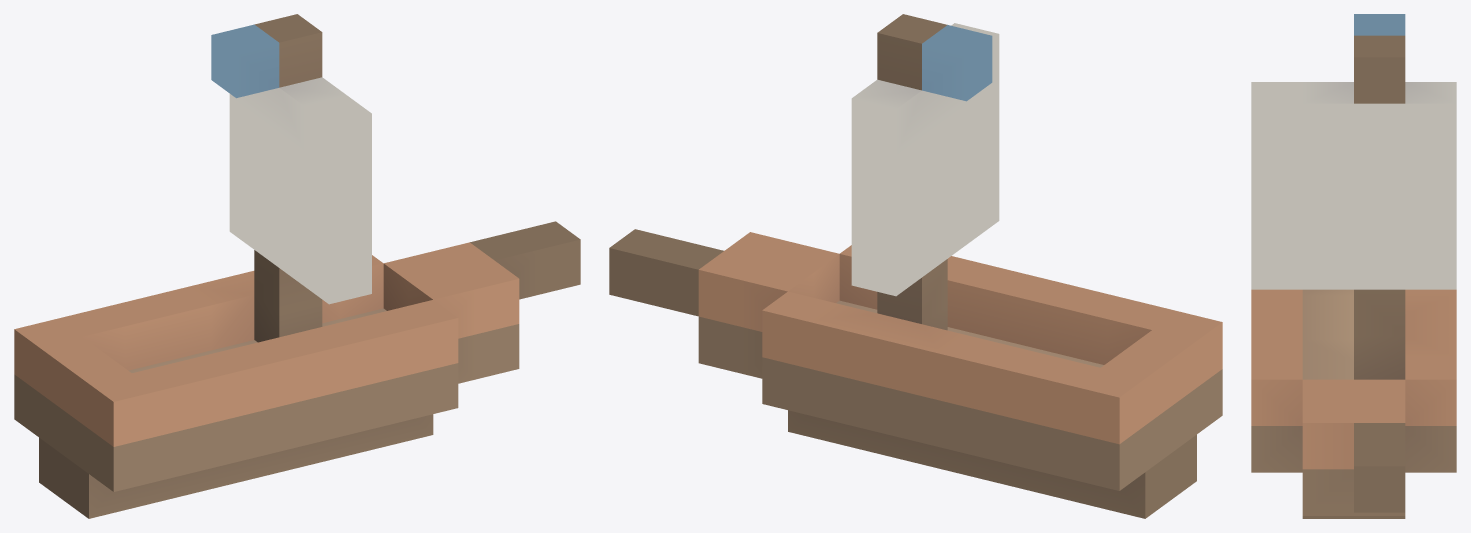
File: balinger.lite.glb
The picture shows the model from 3 angles, left to right: view 1: azimuth 30°, elevation 25°; view 2: azimuth 150°, elevation 25°; view 3: azimuth 270°, elevation 25°; orthographic projection. The views are drawn at different scales.
Parts seen in each view (by area): view 1: balinger; view 2: balinger; view 3: balinger.
Boxes of the visible parts, box(x1,y1,x2,y2) form: balinger: box(14, 14, 580, 518); balinger: box(609, 14, 1222, 518); balinger: box(1251, 14, 1456, 518).
Size of the model in its own units: 2.4 by 1.8 by 0.8.
